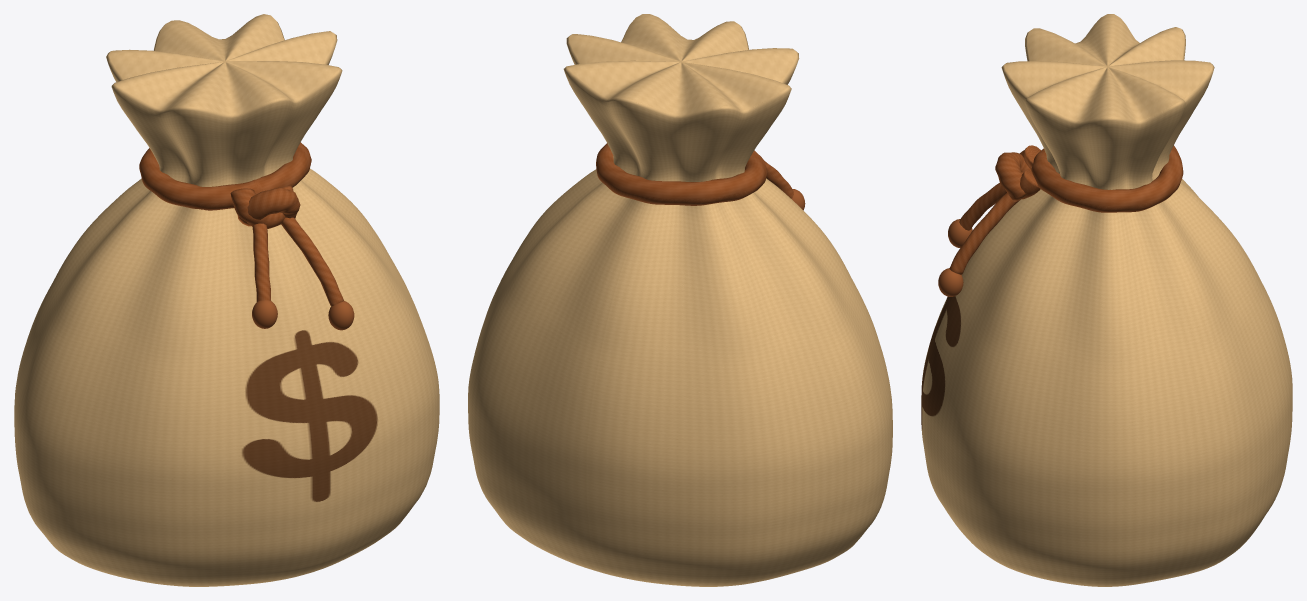
Rendered from Bag.glb.
3 renders of one model, left to right at view 1: azimuth 30°, elevation 25°; view 2: azimuth 150°, elevation 25°; view 3: azimuth 270°, elevation 25°, orthographic. The views are drawn at different scales.
Parts seen in each view (by area): view 1: Bag; view 2: Bag; view 3: Bag.
Boxes of the visible parts, bbox=[...] form: Bag: bbox=[14, 14, 439, 586]; Bag: bbox=[468, 14, 892, 586]; Bag: bbox=[921, 14, 1292, 586].
Size of the model in its own units: 0.2926 by 0.3483 by 0.2488.
1 material, 1 textured.
